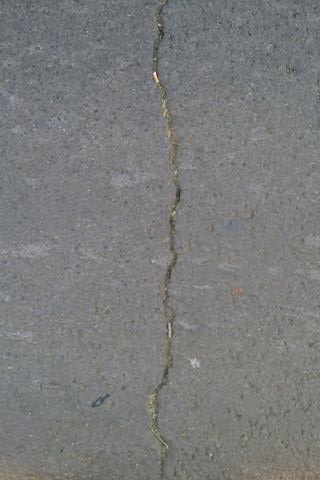A: (152, 3, 187, 480)
